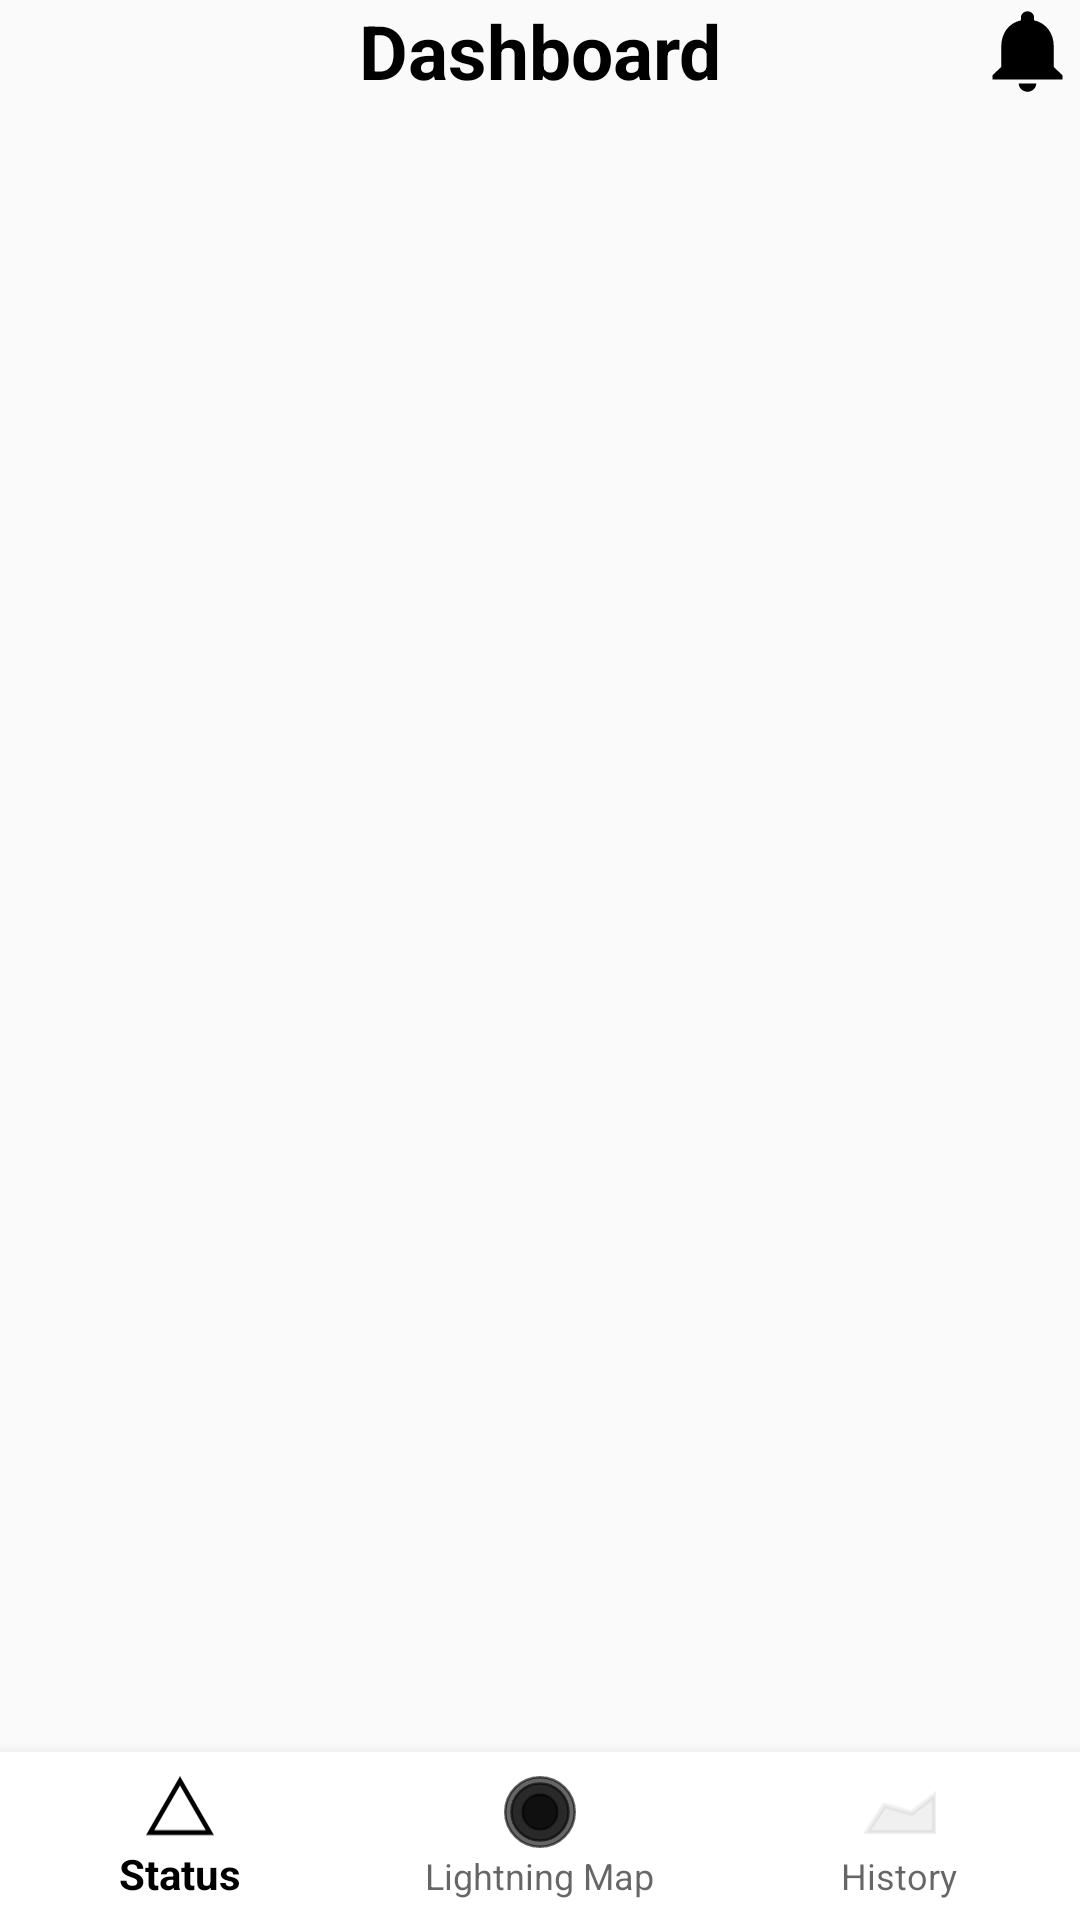

Named icons in this screenshot (1080w x 1920h) and their bounding boxes, (x1, y1, x2, y2):
notifications: (992, 11, 1063, 92)
